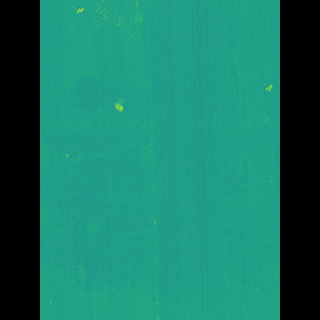Loch: (67, 65, 158, 307)
